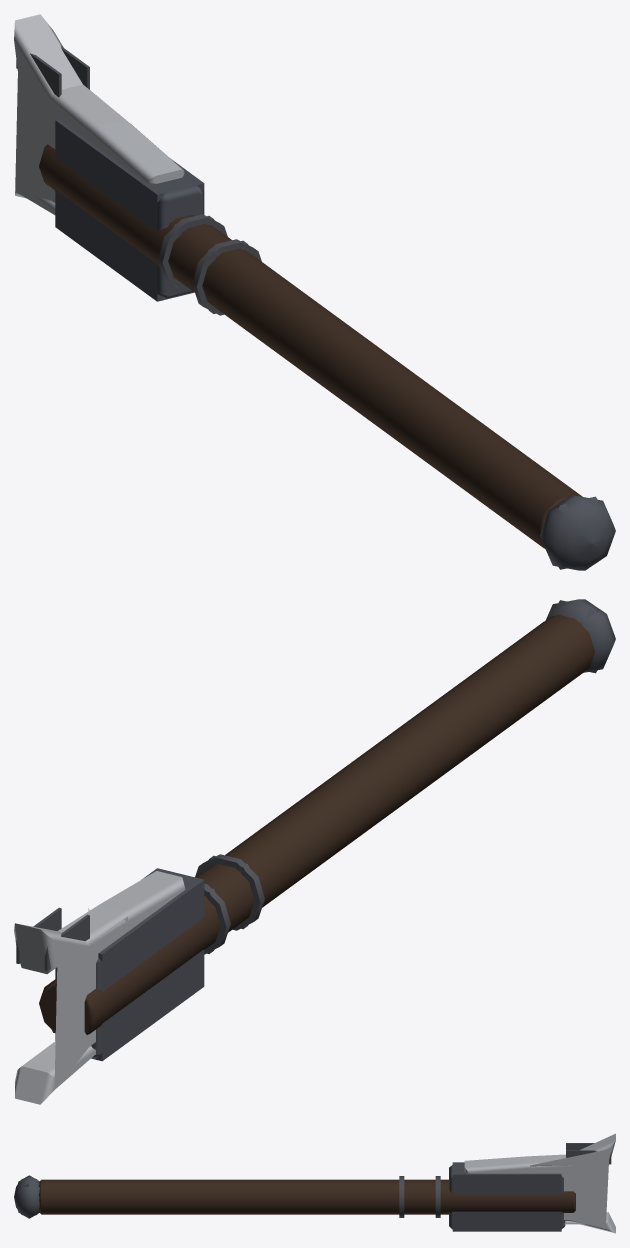
File: m_hatchet.glb
The picture shows the model from 3 angles, top to bottom: view 1: azimuth 30°, elevation 25°; view 2: azimuth 150°, elevation 25°; view 3: azimuth 270°, elevation 25°; orthographic projection. The views are drawn at different scales.
Parts seen in each view (by area): view 1: L0, L1; view 2: L0, L1; view 3: L0, L1.
Boxes of the visible parts, box(x1,y1,x2,y2) form: L0: box(14, 14, 615, 570); L1: box(55, 119, 613, 569); L0: box(14, 599, 615, 1104); L1: box(52, 600, 598, 1061); L0: box(14, 1133, 615, 1233); L1: box(17, 1162, 561, 1231).
Bounding box in the file's own units: 0.0362 × 0.0852 × 0.4977.
